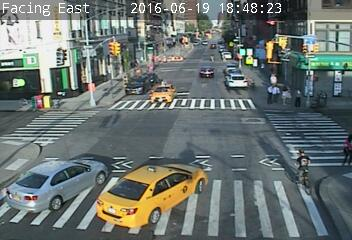neg: (287, 147, 318, 189), (49, 44, 67, 68), (231, 33, 242, 47)
pos: (336, 131, 351, 166), (276, 83, 295, 107), (289, 85, 306, 107), (266, 82, 277, 97), (272, 84, 282, 98)
